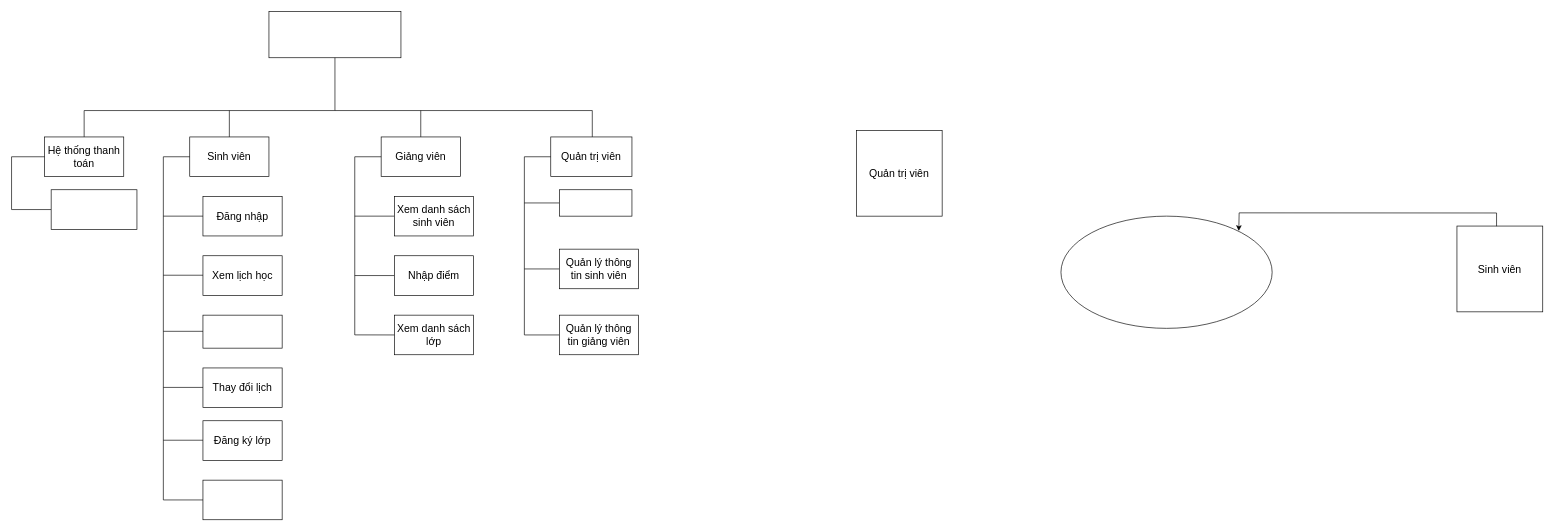
Image size: 1554x531. Some labels were removed from this diagram. Each missing label, with the centre of its shape:
"Hệ thống đăng kí học phần teruwcvj tuyến" belongs at (x=1166, y=271).
"Hệ thống đăng ký lớp học trực tuyến" belongs at (x=334, y=34).
"Quản lý học phần" belongs at (x=595, y=202).
"Thanh toán học phí" belongs at (x=242, y=499).
"Xem thông tin học phần" belongs at (x=242, y=331).
"Xuất hóa đơn" belongs at (x=93, y=209).
